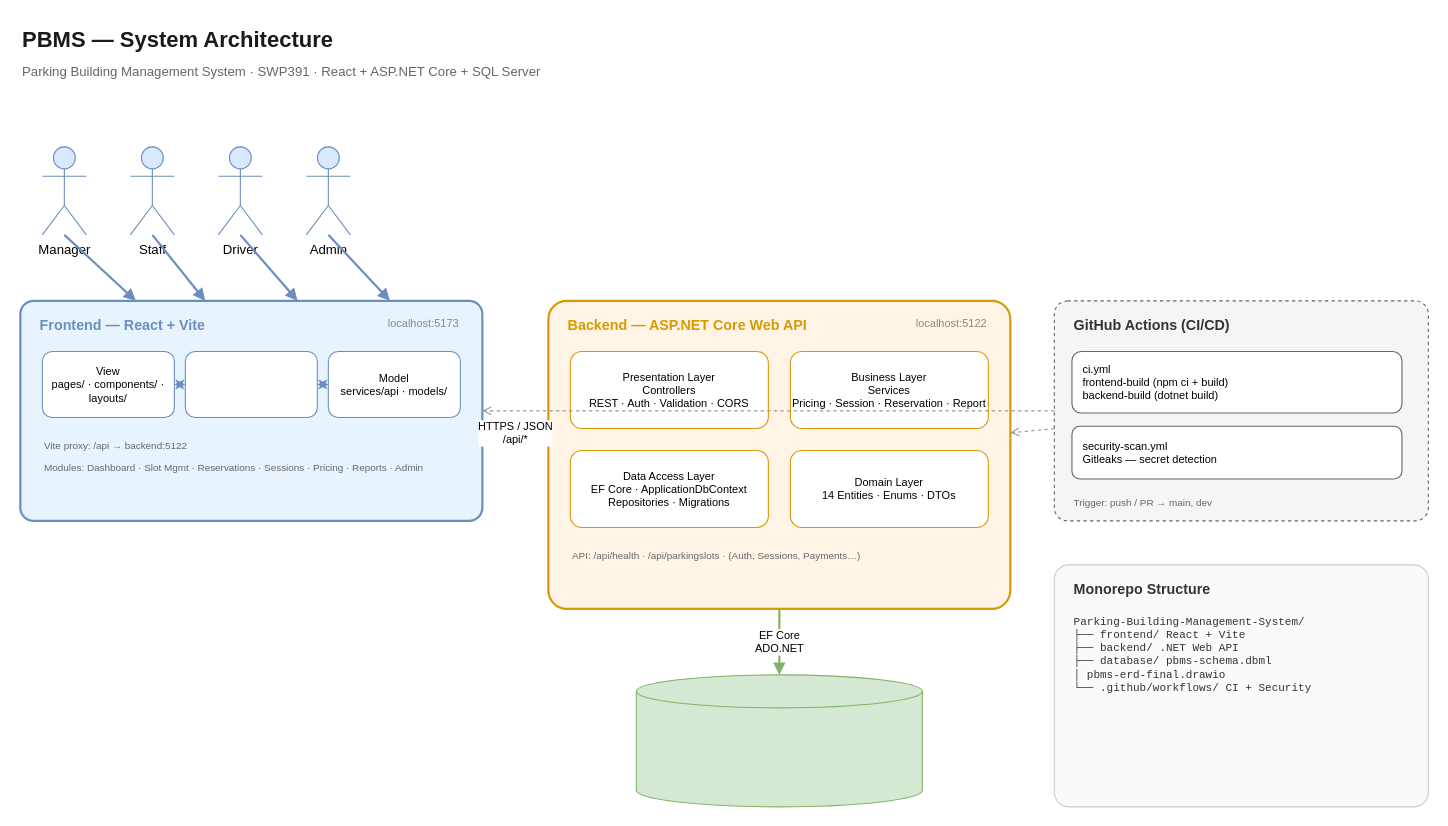
This 1448x826 diagram has some shape labels left out. The centre of each missing label's shape, as x and y in pixels:
"Controller hooks/ · contexts/ · routes/" goes at (x=250, y=383).
"SQL Server ParkingBuildingManagement 14 Tables · EF Migrations" goes at (x=778, y=740).
